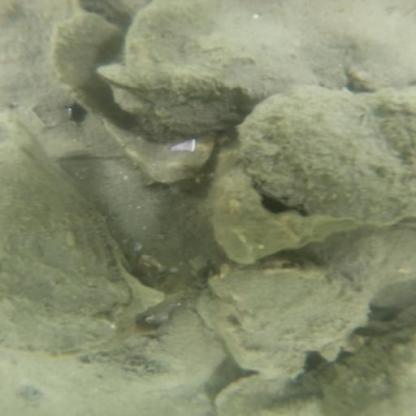Oyster- Indeterminate: (0, 119, 128, 349)
Oyster-Closed: (240, 88, 402, 226), (121, 1, 321, 99), (204, 263, 374, 376), (59, 308, 219, 393), (105, 71, 277, 134), (306, 229, 414, 305)
